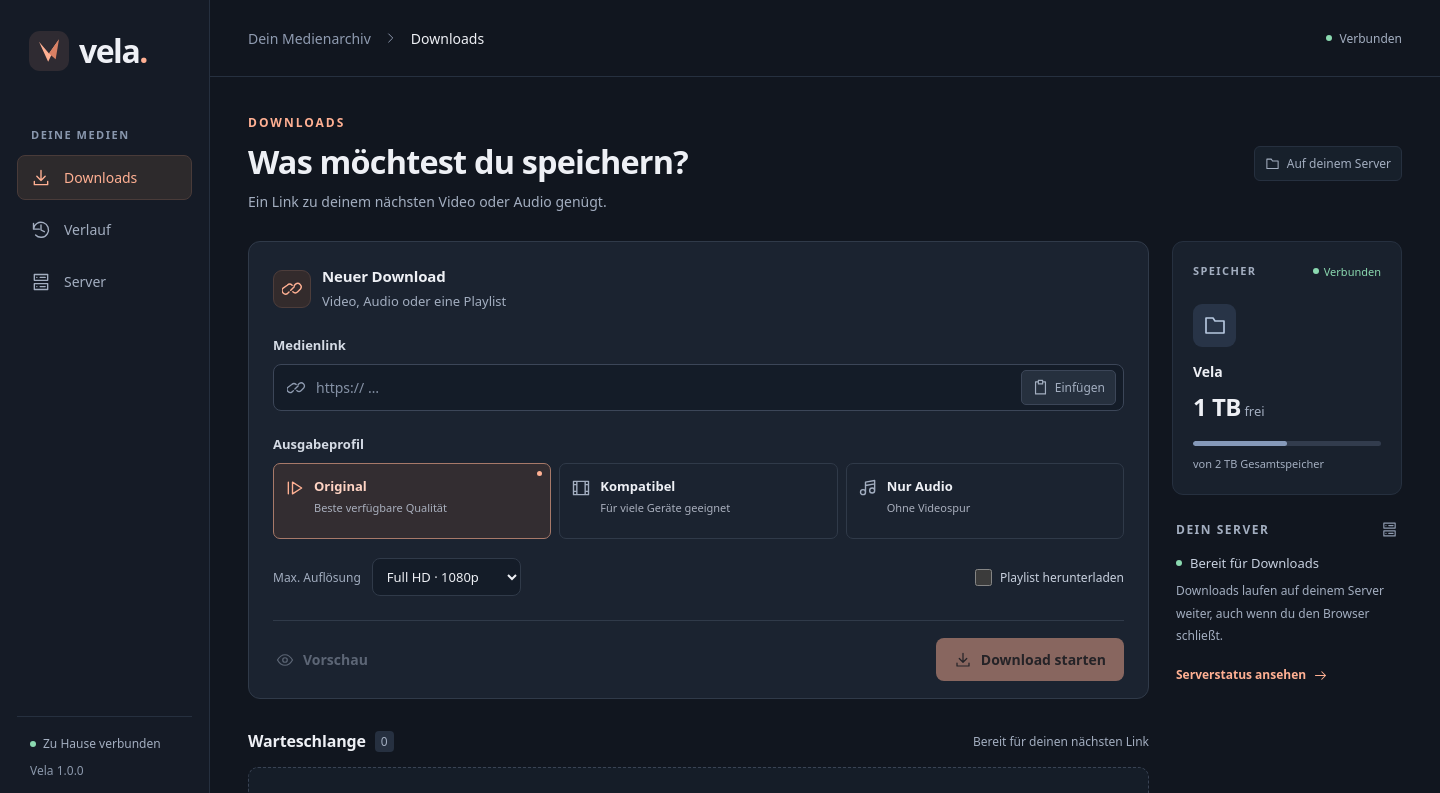
Test case: Vela-Arbeitsabläufe › erstellt einen Audioauftrag ohne Auflösungsgrenze und zeigt dessen Wartestatus
In the field labelled "Medienlink": (663, 388) [316,370,1011,405], type "https://example.com/video"
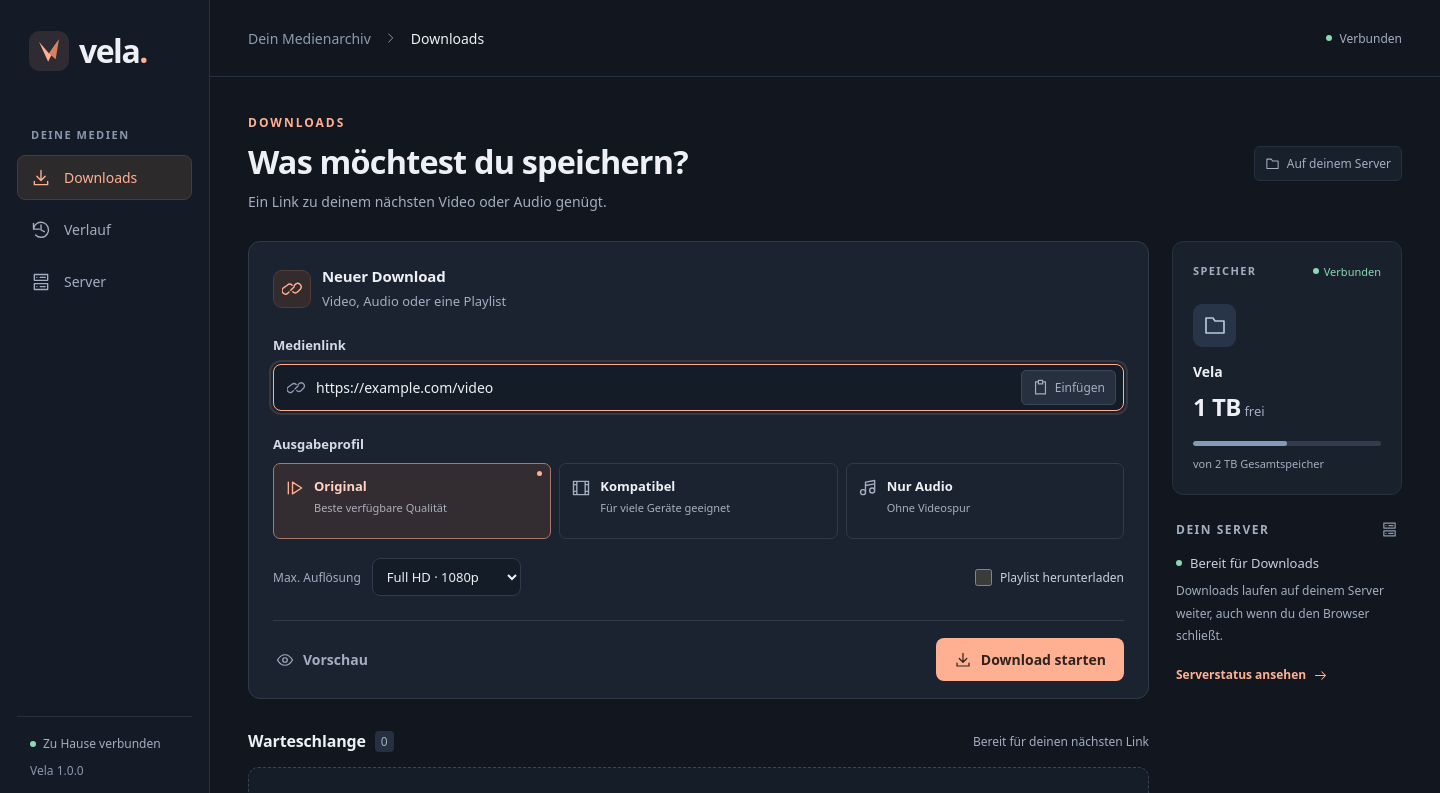
Click the radio button labelled "Nur Audio Ohne Videospur": (920, 486) [846,463,1124,539]
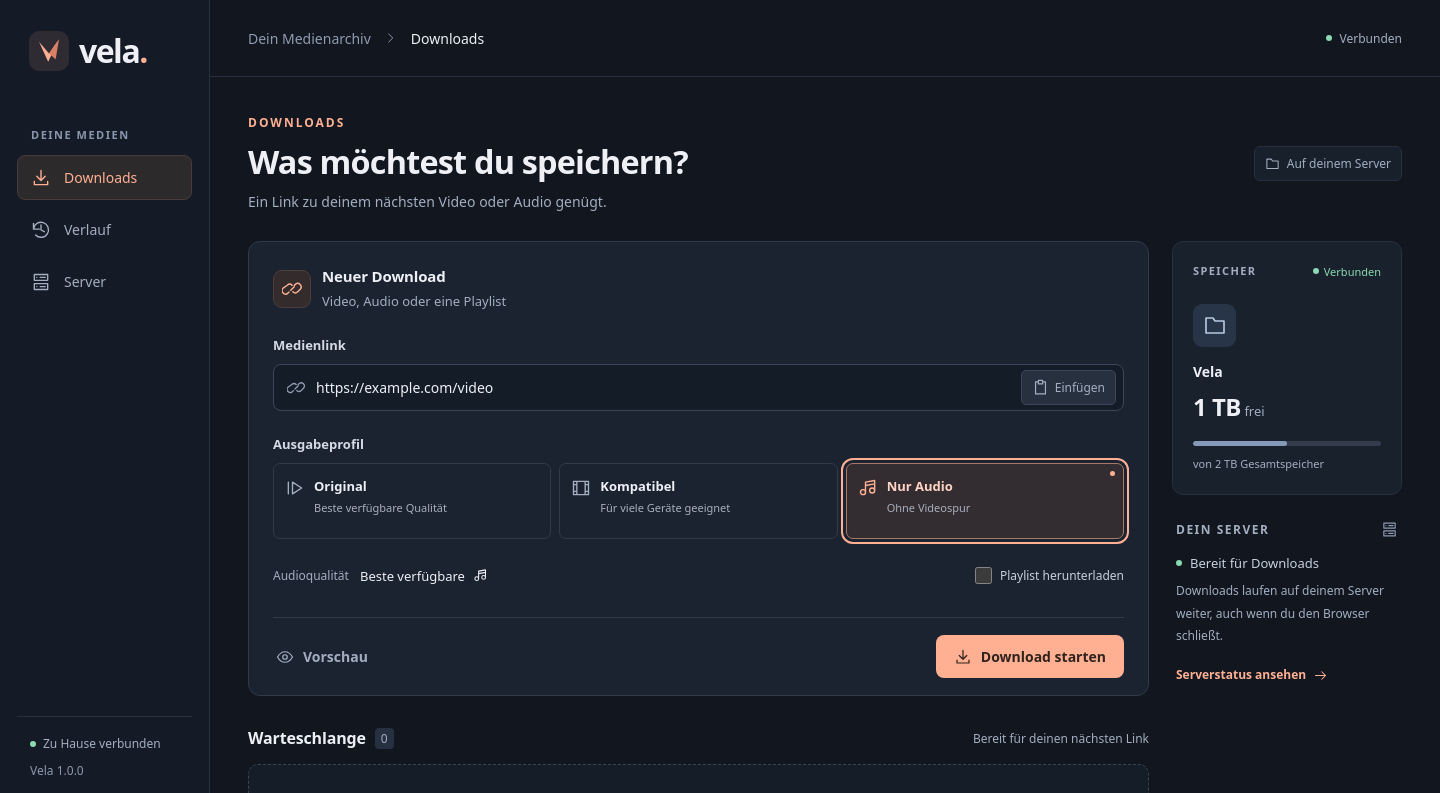
Click the button "Download starten": (1030, 657) [936,635,1124,678]
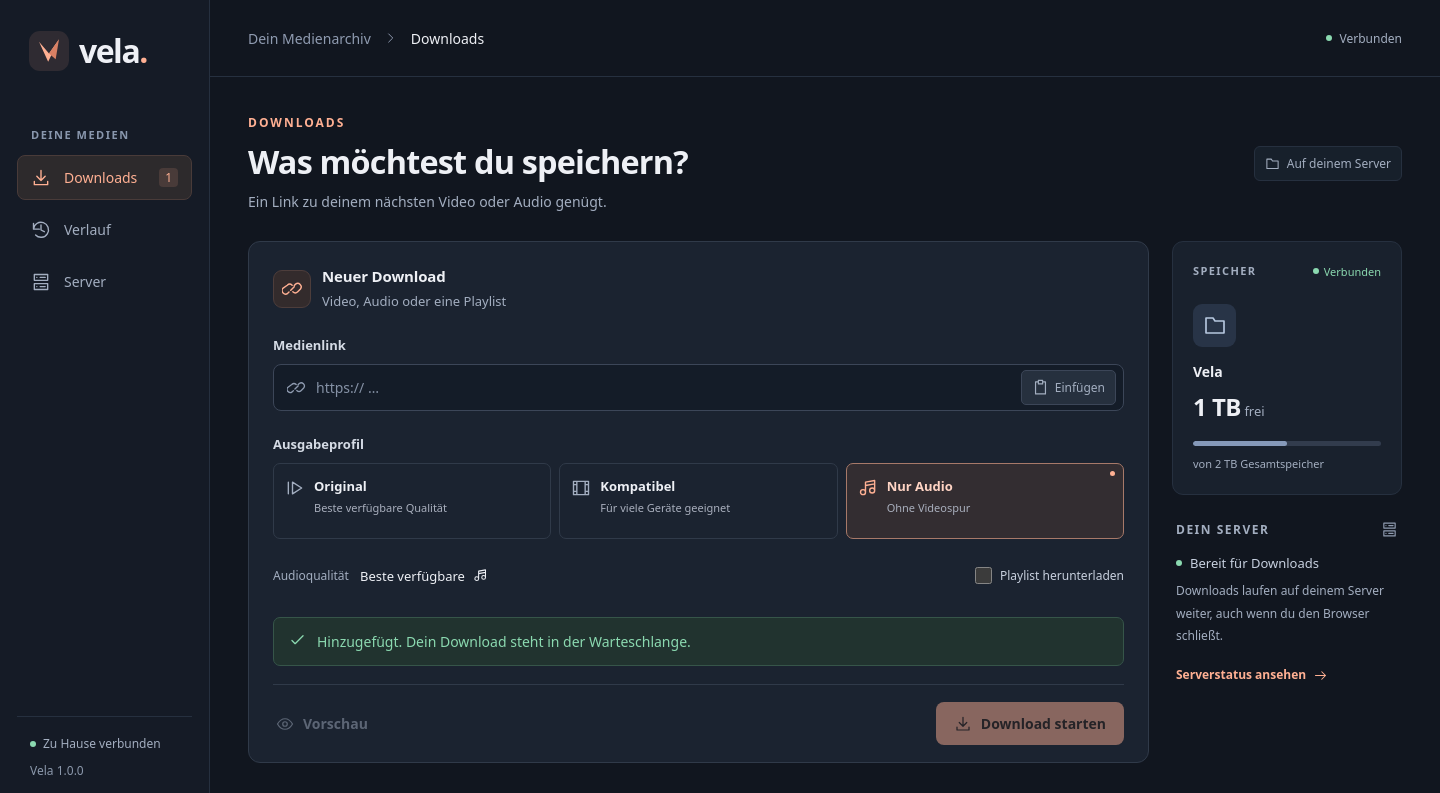
Check: the text "Hinzugefügt. Dein Download steht in der Warteschlange." is shown, box [317,632,691,651]
Check: the field labelled "Medienlink" is empty, box [316,370,1011,405]
